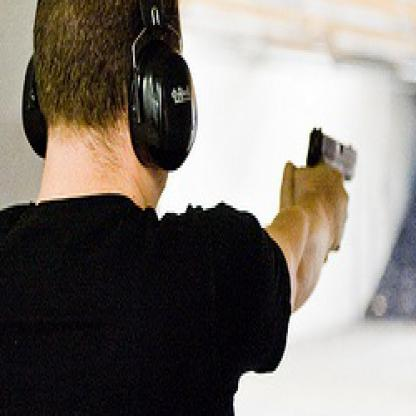gun: (304, 126, 358, 206)
